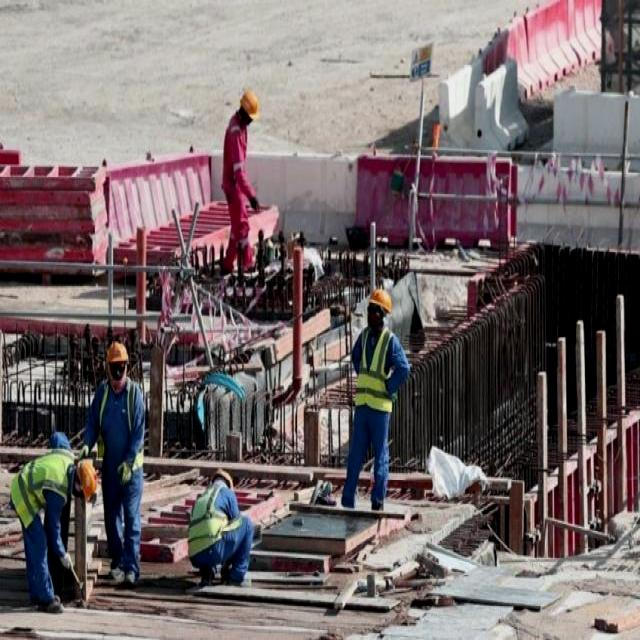hand_glove: (114, 457, 137, 486), (250, 191, 263, 214)
head_helmet: (75, 463, 98, 500), (106, 342, 133, 362), (240, 91, 258, 119), (369, 288, 391, 308), (208, 469, 231, 483)
person: (91, 341, 150, 578), (18, 433, 95, 605), (353, 291, 392, 508), (188, 467, 262, 581), (225, 85, 257, 269)
vest: (356, 333, 392, 402), (16, 456, 65, 504), (194, 488, 227, 551)
